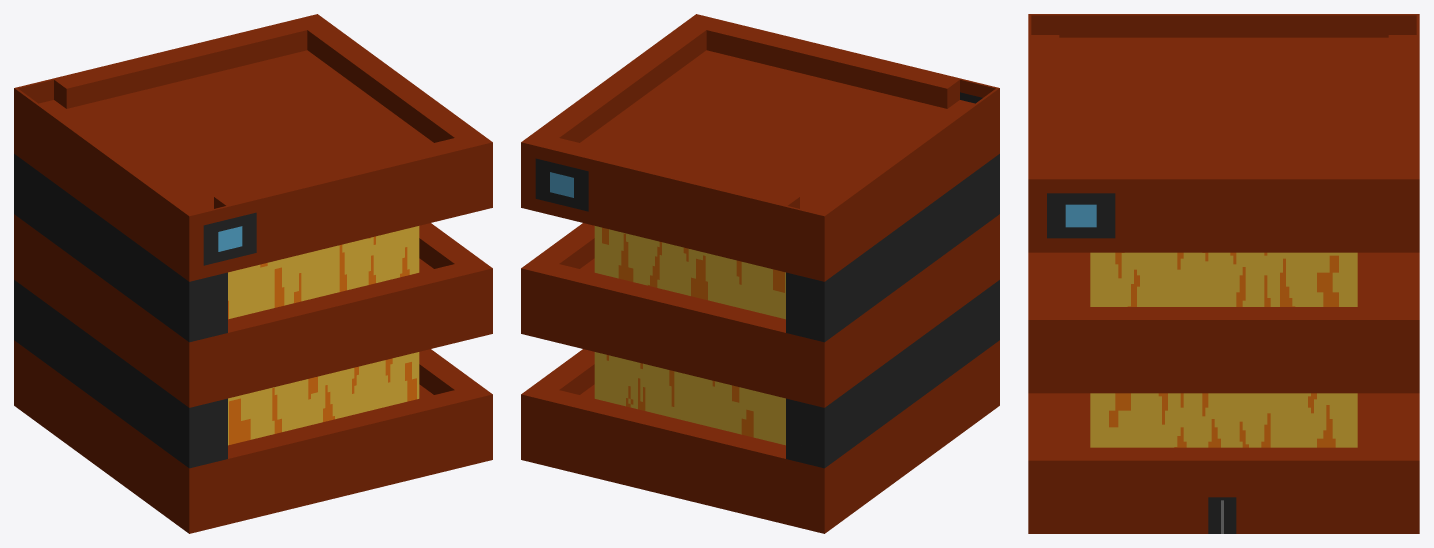
Rendered from Megabuilding-1.obj.
3 renders of one model, left to right at view 1: azimuth 30°, elevation 25°; view 2: azimuth 150°, elevation 25°; view 3: azimuth 270°, elevation 25°, orthographic. The views are drawn at different scales.
Bounding box in the file's own units: 12.6 × 12.6 × 12.6.
Materials: 1 (1 with a texture image).
